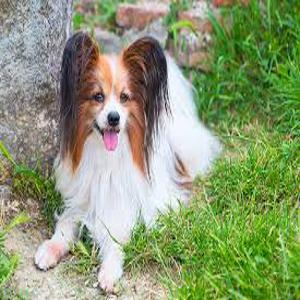yell: (33, 31, 220, 292)
